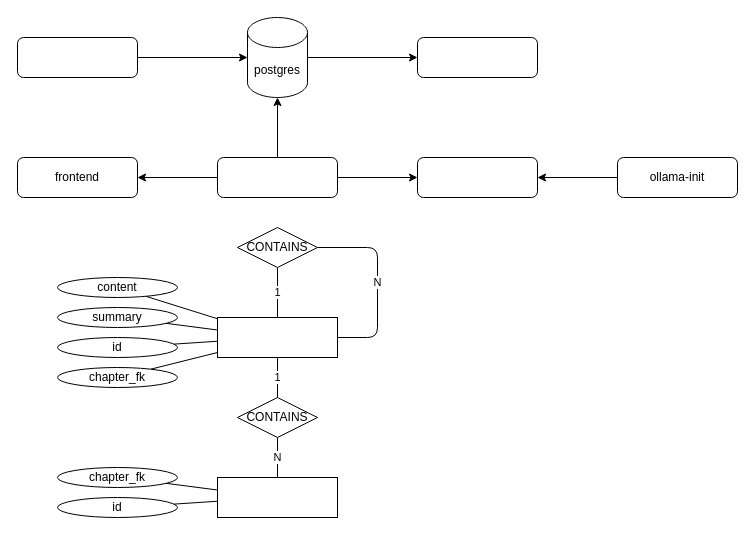
This 755x535 diagram has some shape labels left out. Each missing label, with the box of its shape:
CHAPTER: (216, 316, 338, 358)
extractor: (216, 156, 338, 198)
extractor-init: (16, 36, 138, 78)
IMAGE: (216, 476, 338, 518)
ollama: (416, 156, 538, 198)
pgadmin4: (416, 36, 538, 78)
